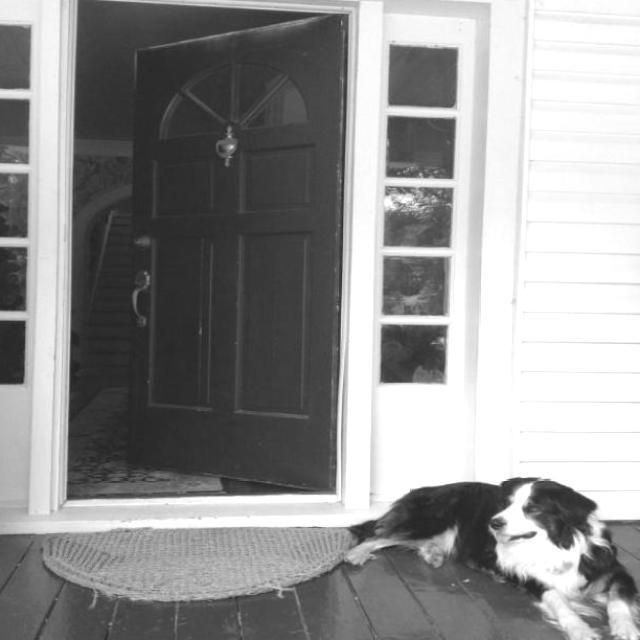door: (128, 14, 347, 492)
